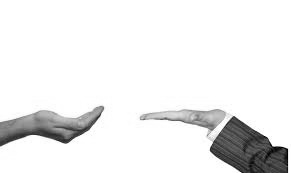pointing_gesture: (33, 106, 119, 144), (138, 109, 227, 129)
